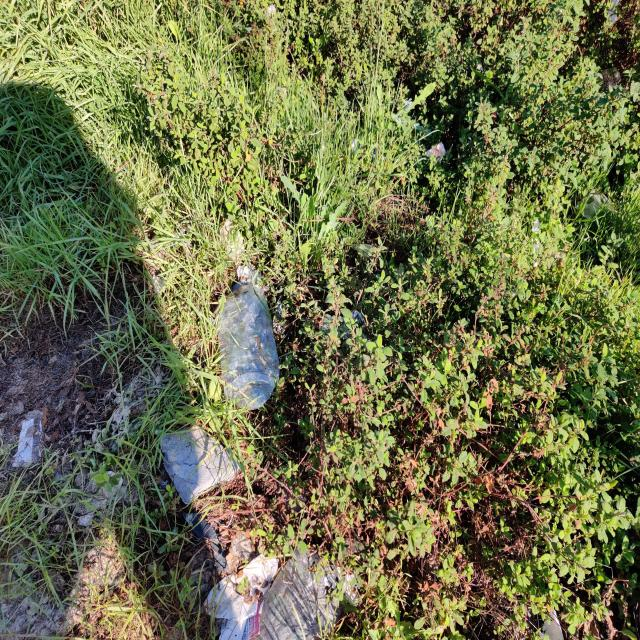litter: (212, 279, 279, 409)
